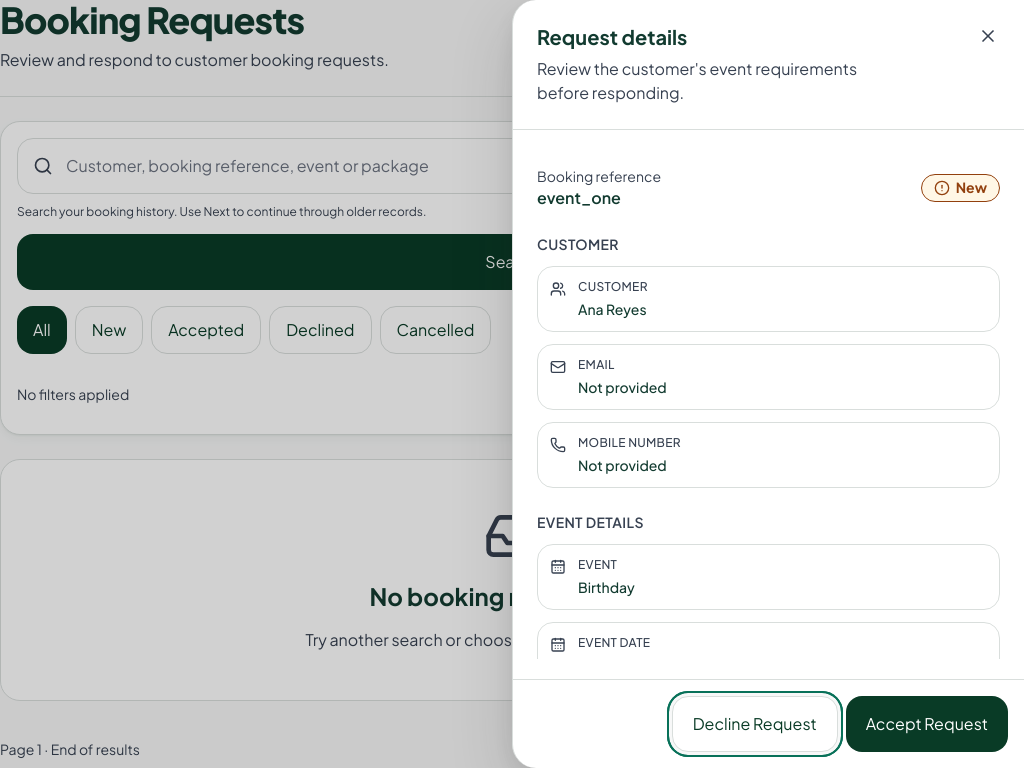
Test: provider request acceptance copy › shows frozen eligibility in the drawer and acceptance confirmation: pending deposit eligible
Click the button "Accept Request" at (927, 724), box [846,696,1008,752]
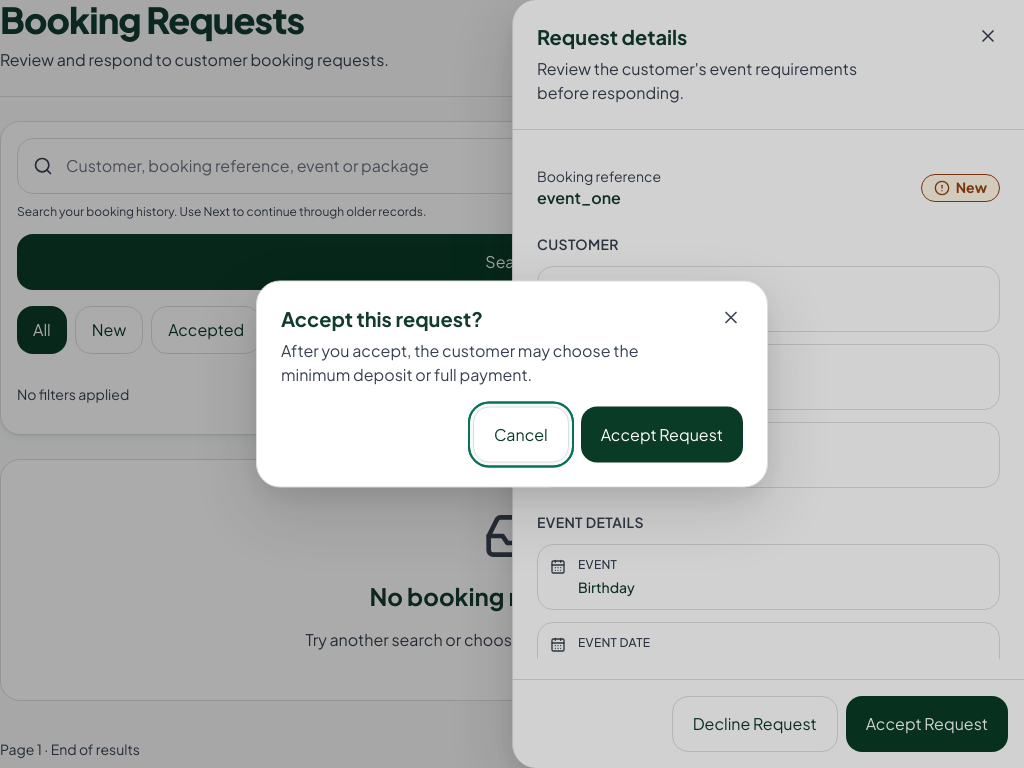
Check: the dialog "Accept this request?" shows "minimum deposit or full payment", box [281,340,638,384]
